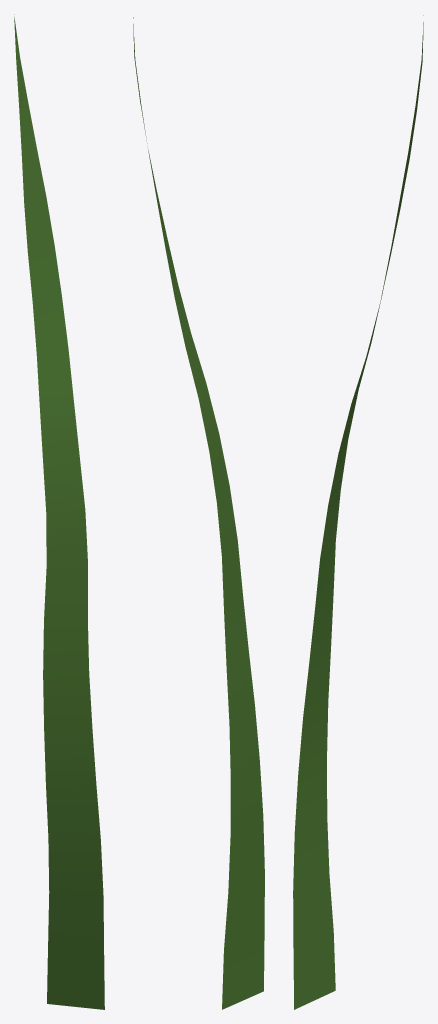
File: plant_swamp_kelp_giant_C_solo_E.fbx
3 renders of one model, left to right at view 1: azimuth 90°, elevation 25°; view 2: azimuth 150°, elevation 25°; view 3: azimuth 330°, elevation 25°, orthographic. The views are drawn at different scales.
Parts seen in each view (by area): view 1: plant_swamp_kelp_giant_C_solo_E; view 2: plant_swamp_kelp_giant_C_solo_E; view 3: plant_swamp_kelp_giant_C_solo_E.
Part boxes in pixels (x1,y1,x2,y2): plant_swamp_kelp_giant_C_solo_E: (14, 14, 104, 1009); plant_swamp_kelp_giant_C_solo_E: (133, 17, 264, 1009); plant_swamp_kelp_giant_C_solo_E: (293, 15, 423, 1009).
Bounding box in the file's own units: 32.42 × 351 × 30.21.
